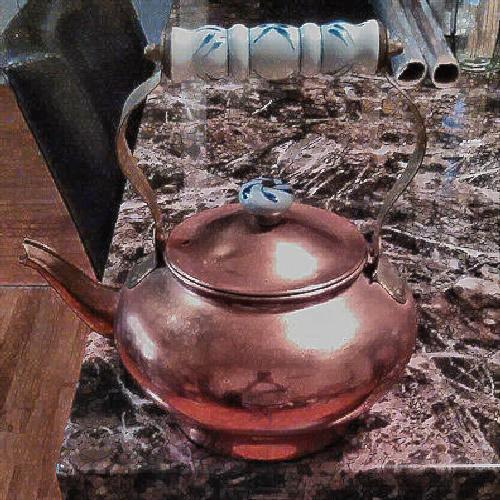kettle: (96, 167, 422, 459)
